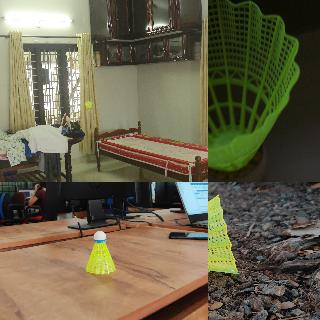shuttlecock: (208, 0, 299, 181), (208, 194, 239, 274), (85, 230, 115, 274), (85, 102, 92, 110)
